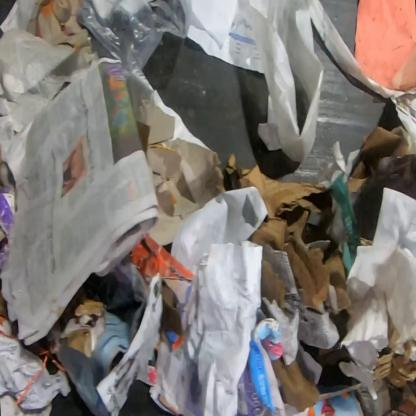cardboard: (224, 152, 351, 316), (139, 97, 227, 245), (348, 124, 409, 192), (60, 285, 107, 358), (128, 232, 194, 279), (373, 317, 416, 388), (160, 282, 182, 335)
soft_plastic: (75, 0, 164, 70)
